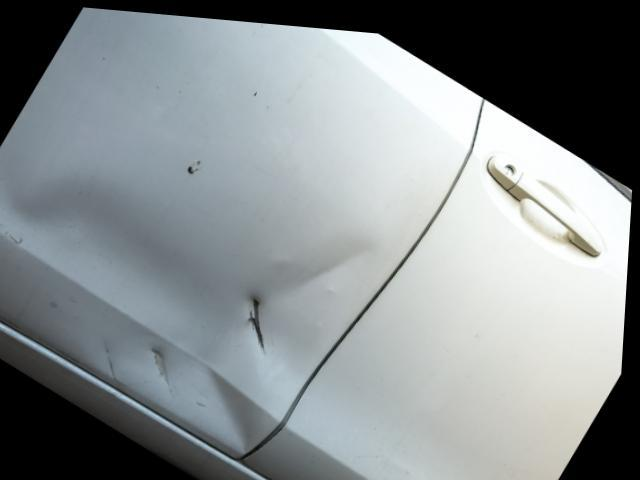dent: (0, 137, 393, 447)
